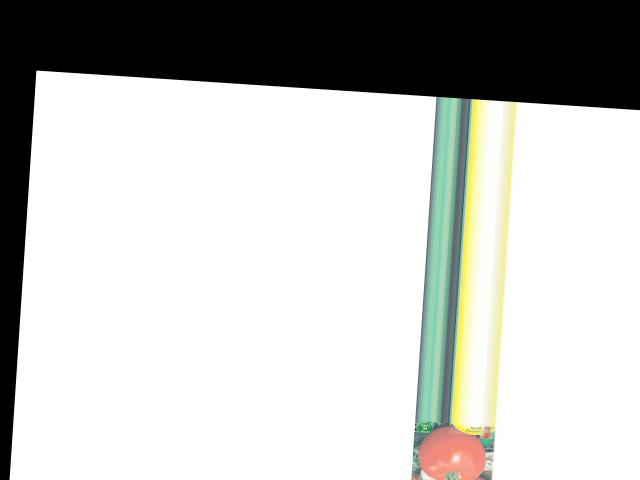tomato: (417, 424, 487, 480)
